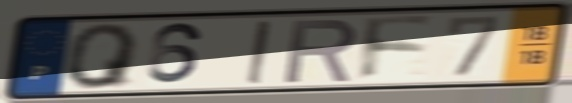6: (146, 20, 204, 89)
7: (444, 14, 503, 80)
F: (358, 14, 437, 84)
I: (244, 18, 274, 86)
Q: (63, 21, 144, 91)
R: (280, 17, 362, 85)
